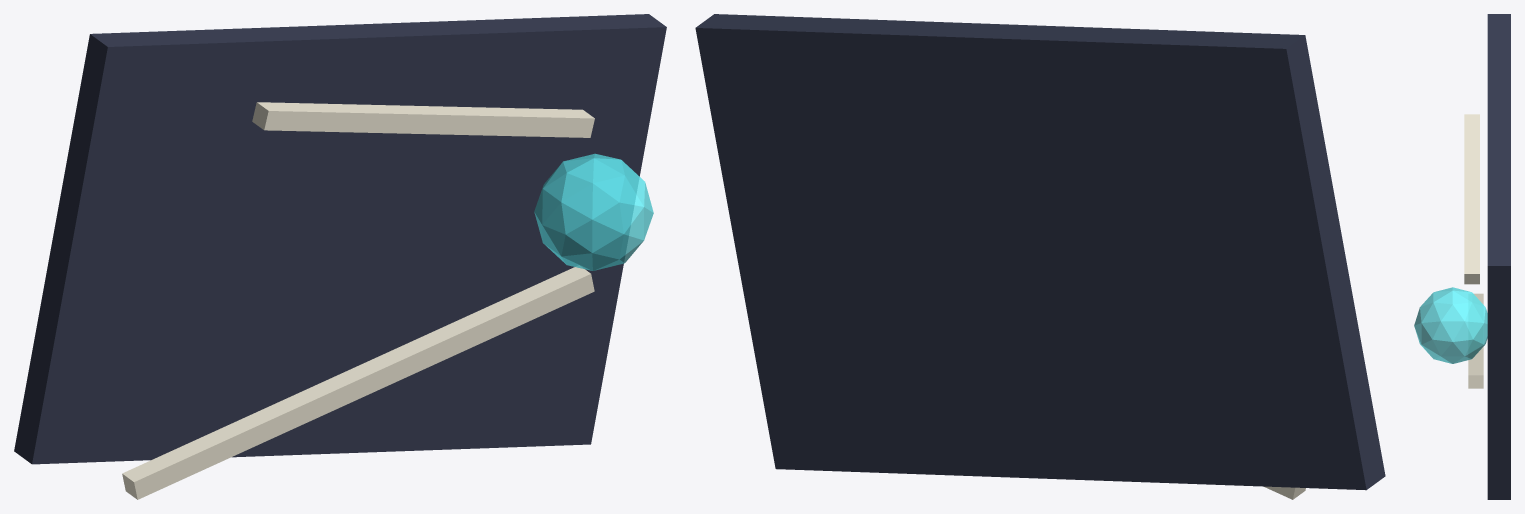
The model's file is 02_world_prop_polish.glb.
3 renders of one model, left to right at view 1: azimuth 30°, elevation 25°; view 2: azimuth 150°, elevation 25°; view 3: azimuth 270°, elevation 25°, orthographic. The views are drawn at different scales.
Visible parts, largest first — view 1: object_overlay_plate, edge_wear_a, glow_socket, edge_wear_b; view 2: object_overlay_plate; view 3: object_overlay_plate, glow_socket, edge_wear_b, edge_wear_a.
Part boxes in pixels (x1=…): object_overlay_plate: x1=14, y1=14, x2=666, y2=464; edge_wear_a: x1=122, y1=266, x2=594, y2=499; glow_socket: x1=534, y1=153, x2=653, y2=270; edge_wear_b: x1=252, y1=102, x2=594, y2=137; object_overlay_plate: x1=695, y1=14, x2=1385, y2=490; object_overlay_plate: x1=1487, y1=14, x2=1510, y2=499; glow_socket: x1=1414, y1=287, x2=1487, y2=363; edge_wear_b: x1=1464, y1=114, x2=1479, y2=284; edge_wear_a: x1=1468, y1=293, x2=1483, y2=388.
Size of the model in its own units: 1.23 by 0.9504 by 0.25.
